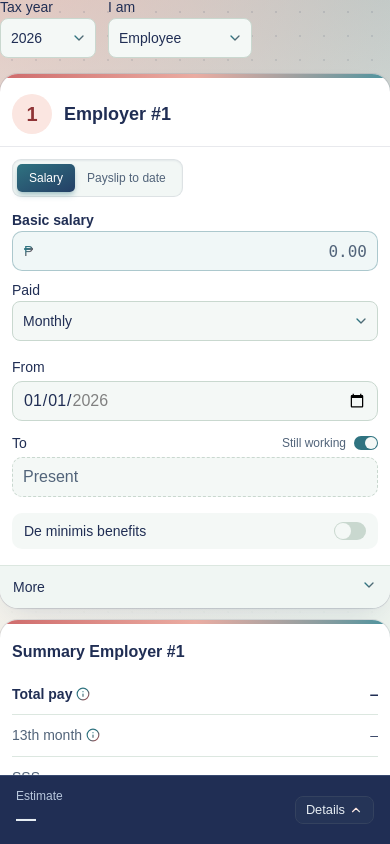
Test: MyYear: the estimate › opens the same estimate from the bar
This screenshot has width=390, height=844.
Type "50000" into the field labelled "Basic salary" at (195, 251), box [12,231,378,271]
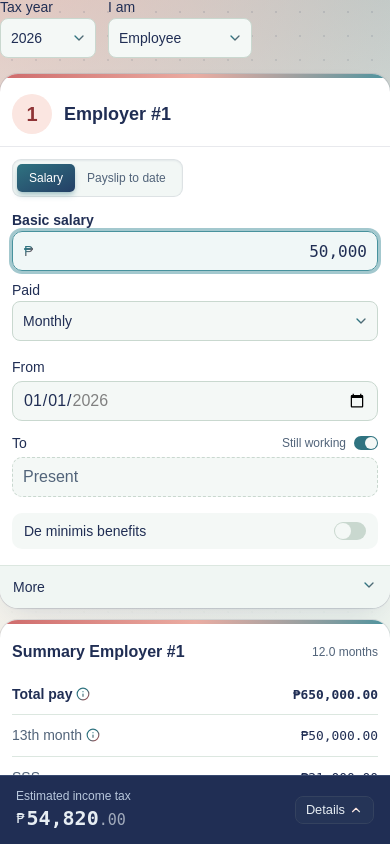
Click the button "Details" at (334, 810), box [295,796,374,824]
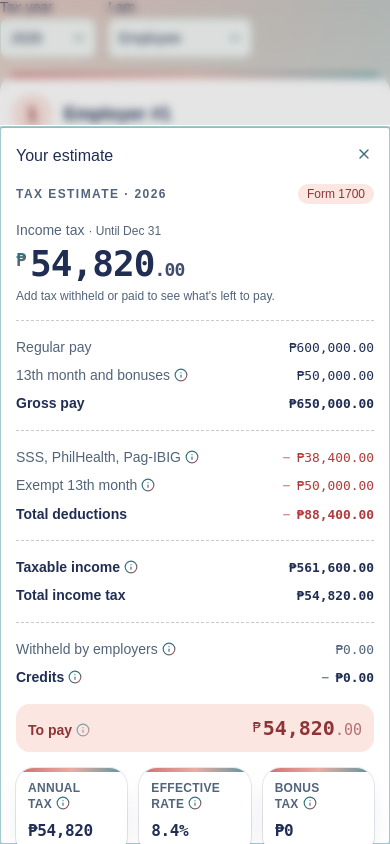
Now the text "Tax estimate · 2026" is shown, box [16,186,167,202]
